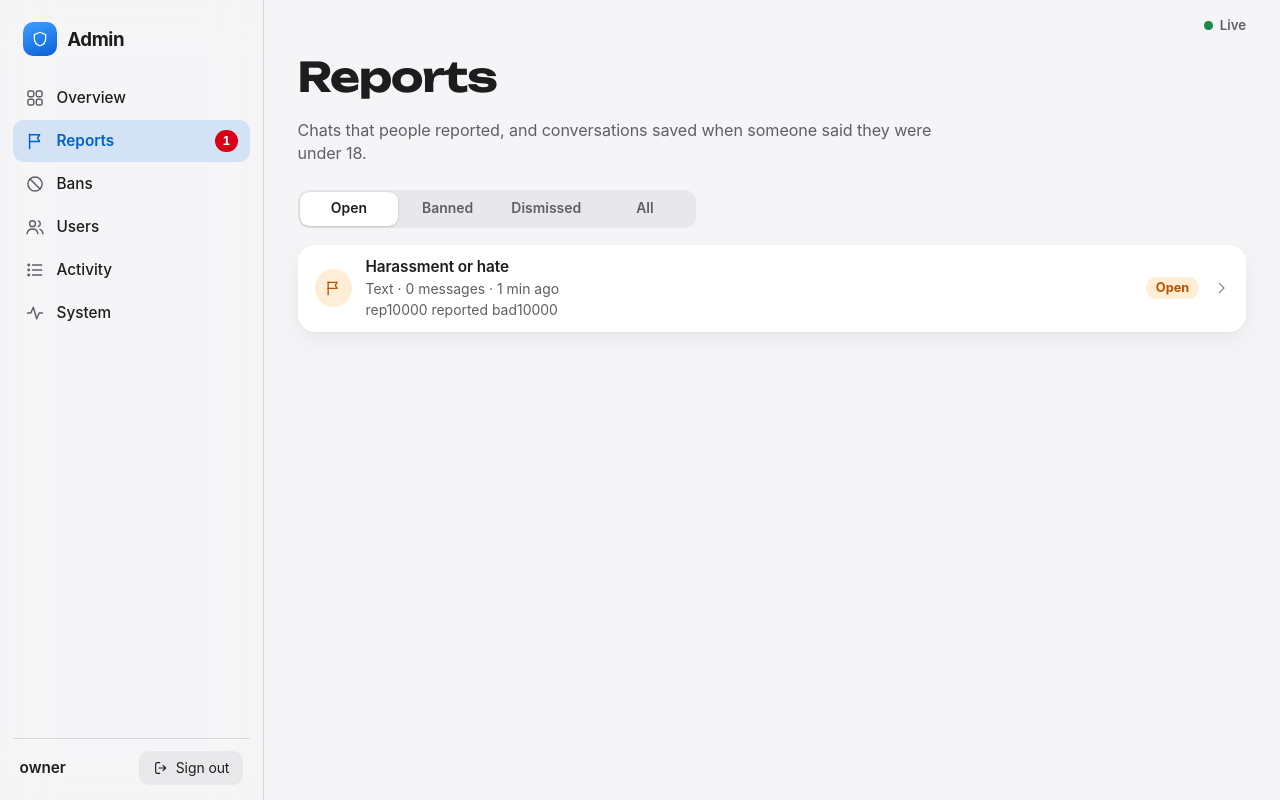
Test: reports › says so when no messages were saved
Step 1. Click the button "Harassment" → click(333, 288), box [298,244,1246,332]
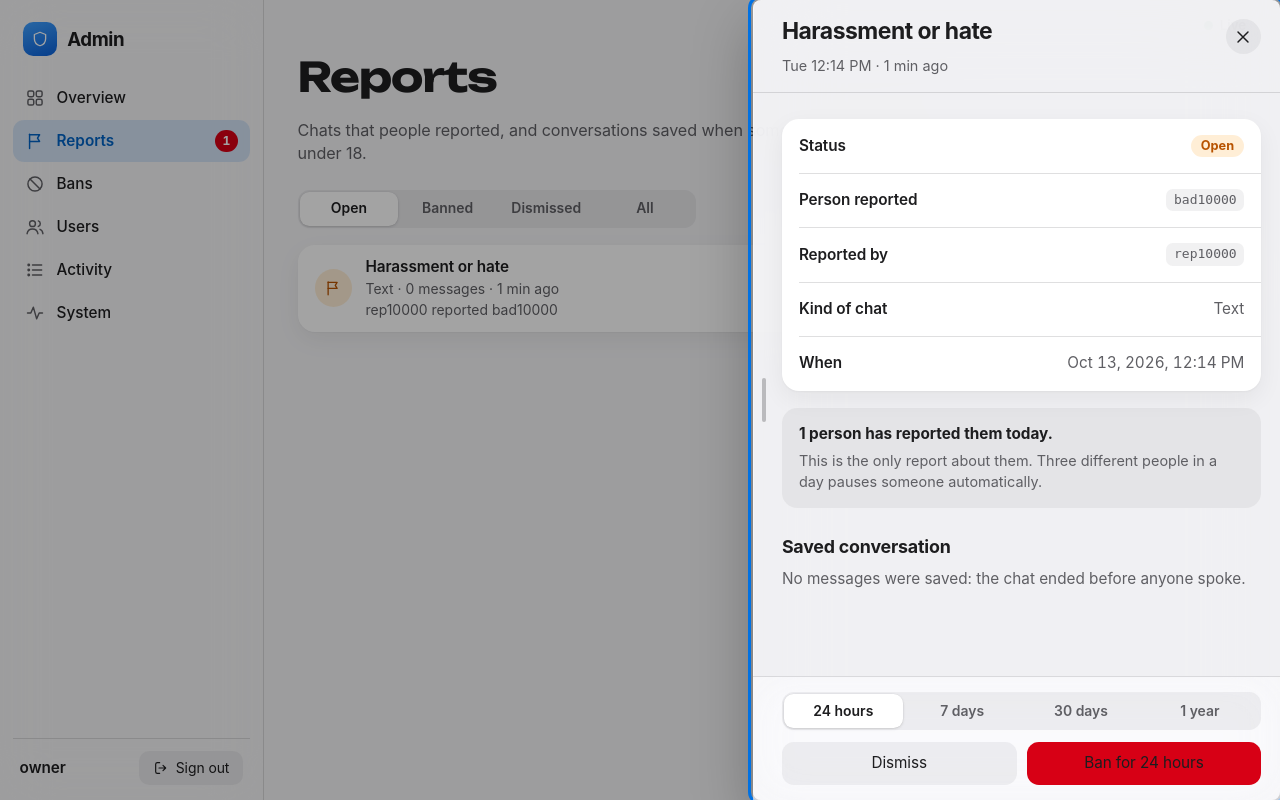
Check: the text "No messages were saved: the chat ended before anyone spoke." is shown, box [782,568,1261,590]
